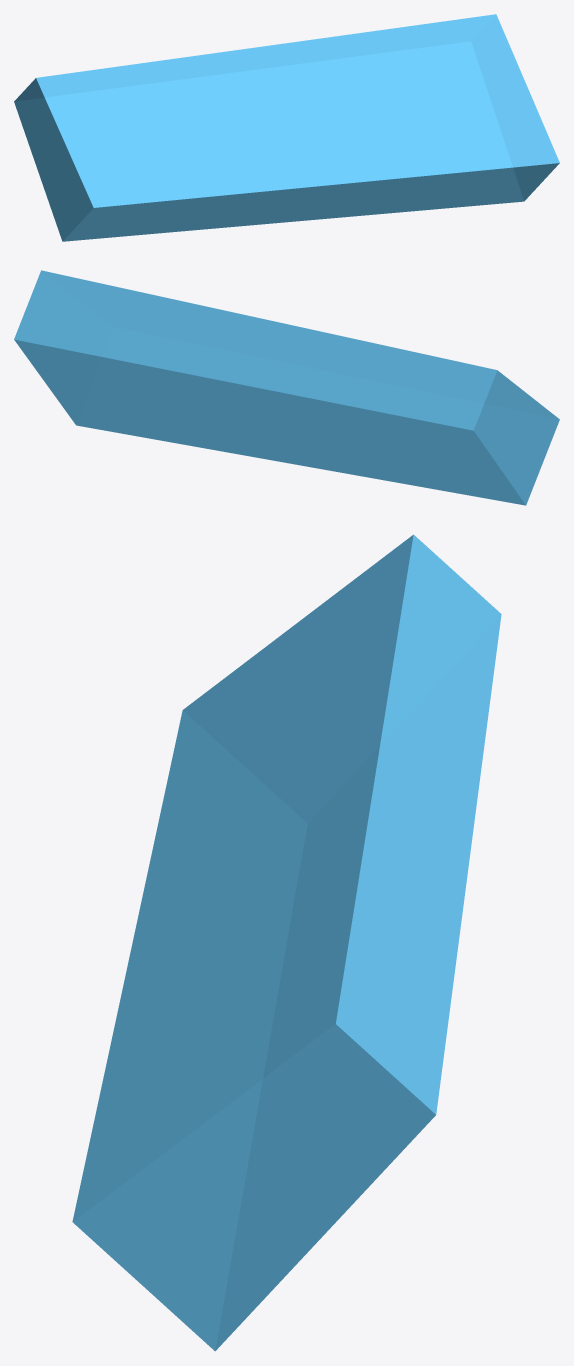
Rendered from Event_421115418_HErechit_127.fbx.
The picture shows the model from 3 angles, top to bottom: view 1: azimuth 30°, elevation 25°; view 2: azimuth 150°, elevation 25°; view 3: azimuth 270°, elevation 25°; orthographic projection. The views are drawn at different scales.
Visible parts, largest first — view 1: Model; view 2: Model; view 3: Model.
Boxes of the visible parts, x1=… form: Model: x1=14, y1=14, x2=559, y2=241; Model: x1=14, y1=270, x2=559, y2=505; Model: x1=72, y1=534, x2=501, y2=1351.
Size of the model in its own units: 1.58 by 0.6652 by 0.6652.
